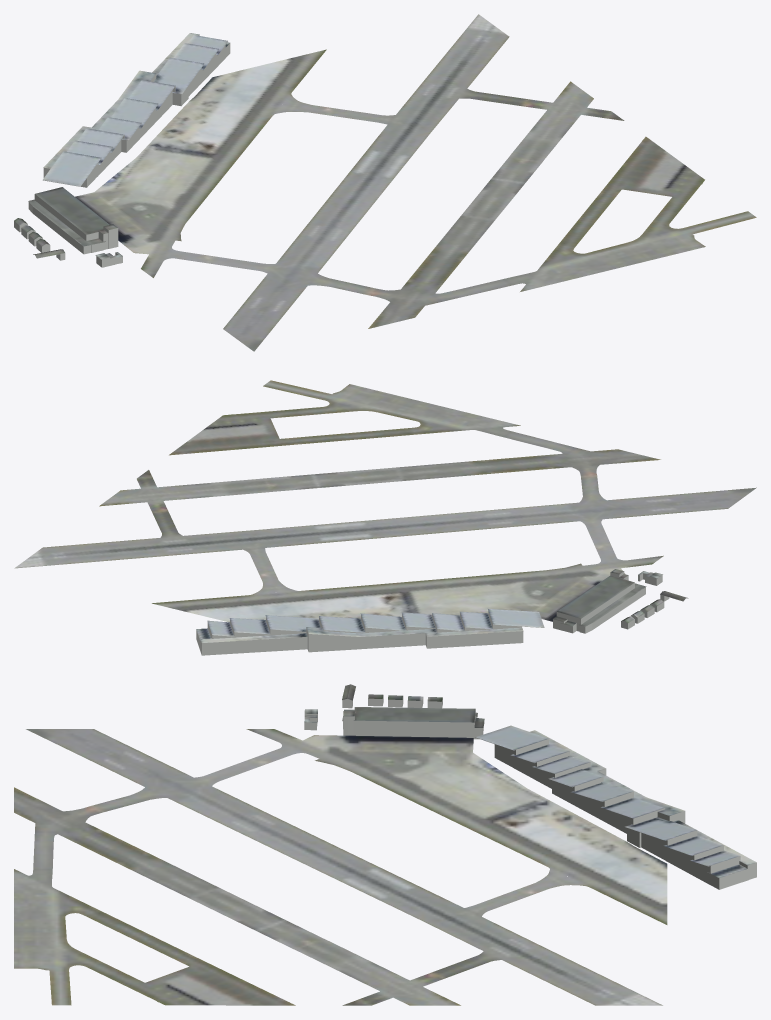
File: LSMP_1_1.glb
The picture shows the model from 3 angles, top to bottom: view 1: azimuth 30°, elevation 25°; view 2: azimuth 150°, elevation 25°; view 3: azimuth 270°, elevation 25°; orthographic projection. The views are drawn at different scales.
Visible parts, largest first — view 1: pavement_LSMP_pavement_5121_2377, building_80550ab6e0292526, building_c2705e2d54c3ca20, building_edd129abb29f5825, building_a29c13f3b28eaed4; view 2: pavement_LSMP_pavement_5121_2377, building_80550ab6e0292526, building_a29c13f3b28eaed4, building_c2705e2d54c3ca20, building_edd129abb29f5825; view 3: pavement_LSMP_pavement_5121_2377, building_80550ab6e0292526, building_a29c13f3b28eaed4, building_edd129abb29f5825, building_c2705e2d54c3ca20.
Part boxes in pixels (left/top/right/bottom): pavement_LSMP_pavement_5121_2377: left=75, top=14, right=756, bottom=351; building_80550ab6e0292526: left=42, top=33, right=229, bottom=186; building_c2705e2d54c3ca20: left=14, top=187, right=122, bottom=259; building_edd129abb29f5825: left=14, top=194, right=122, bottom=267; building_a29c13f3b28eaed4: left=43, top=35, right=230, bottom=187; pavement_LSMP_pavement_5121_2377: left=14, top=380, right=756, bottom=622; building_80550ab6e0292526: left=196, top=609, right=544, bottom=643; building_a29c13f3b28eaed4: left=196, top=611, right=523, bottom=655; building_c2705e2d54c3ca20: left=553, top=569, right=688, bottom=626; building_edd129abb29f5825: left=553, top=571, right=669, bottom=633; pavement_LSMP_pavement_5121_2377: left=14, top=729, right=667, bottom=1005; building_80550ab6e0292526: left=475, top=725, right=756, bottom=878; building_a29c13f3b28eaed4: left=494, top=739, right=756, bottom=889; building_edd129abb29f5825: left=304, top=695, right=483, bottom=739; building_c2705e2d54c3ca20: left=304, top=684, right=484, bottom=728.
Bounding box in the file's own units: 570 × 18.77 × 569.
Materials: 3 (2 with a texture image).
